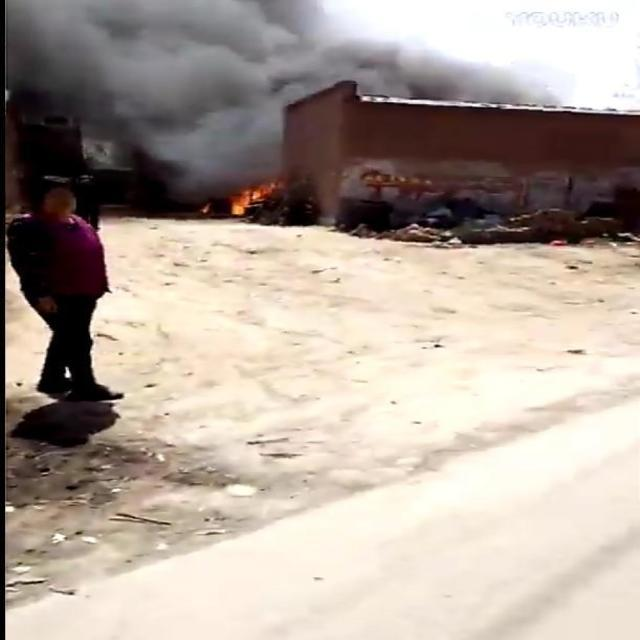Fire: (228, 179, 287, 218)
Smoke: (1, 1, 562, 202)
